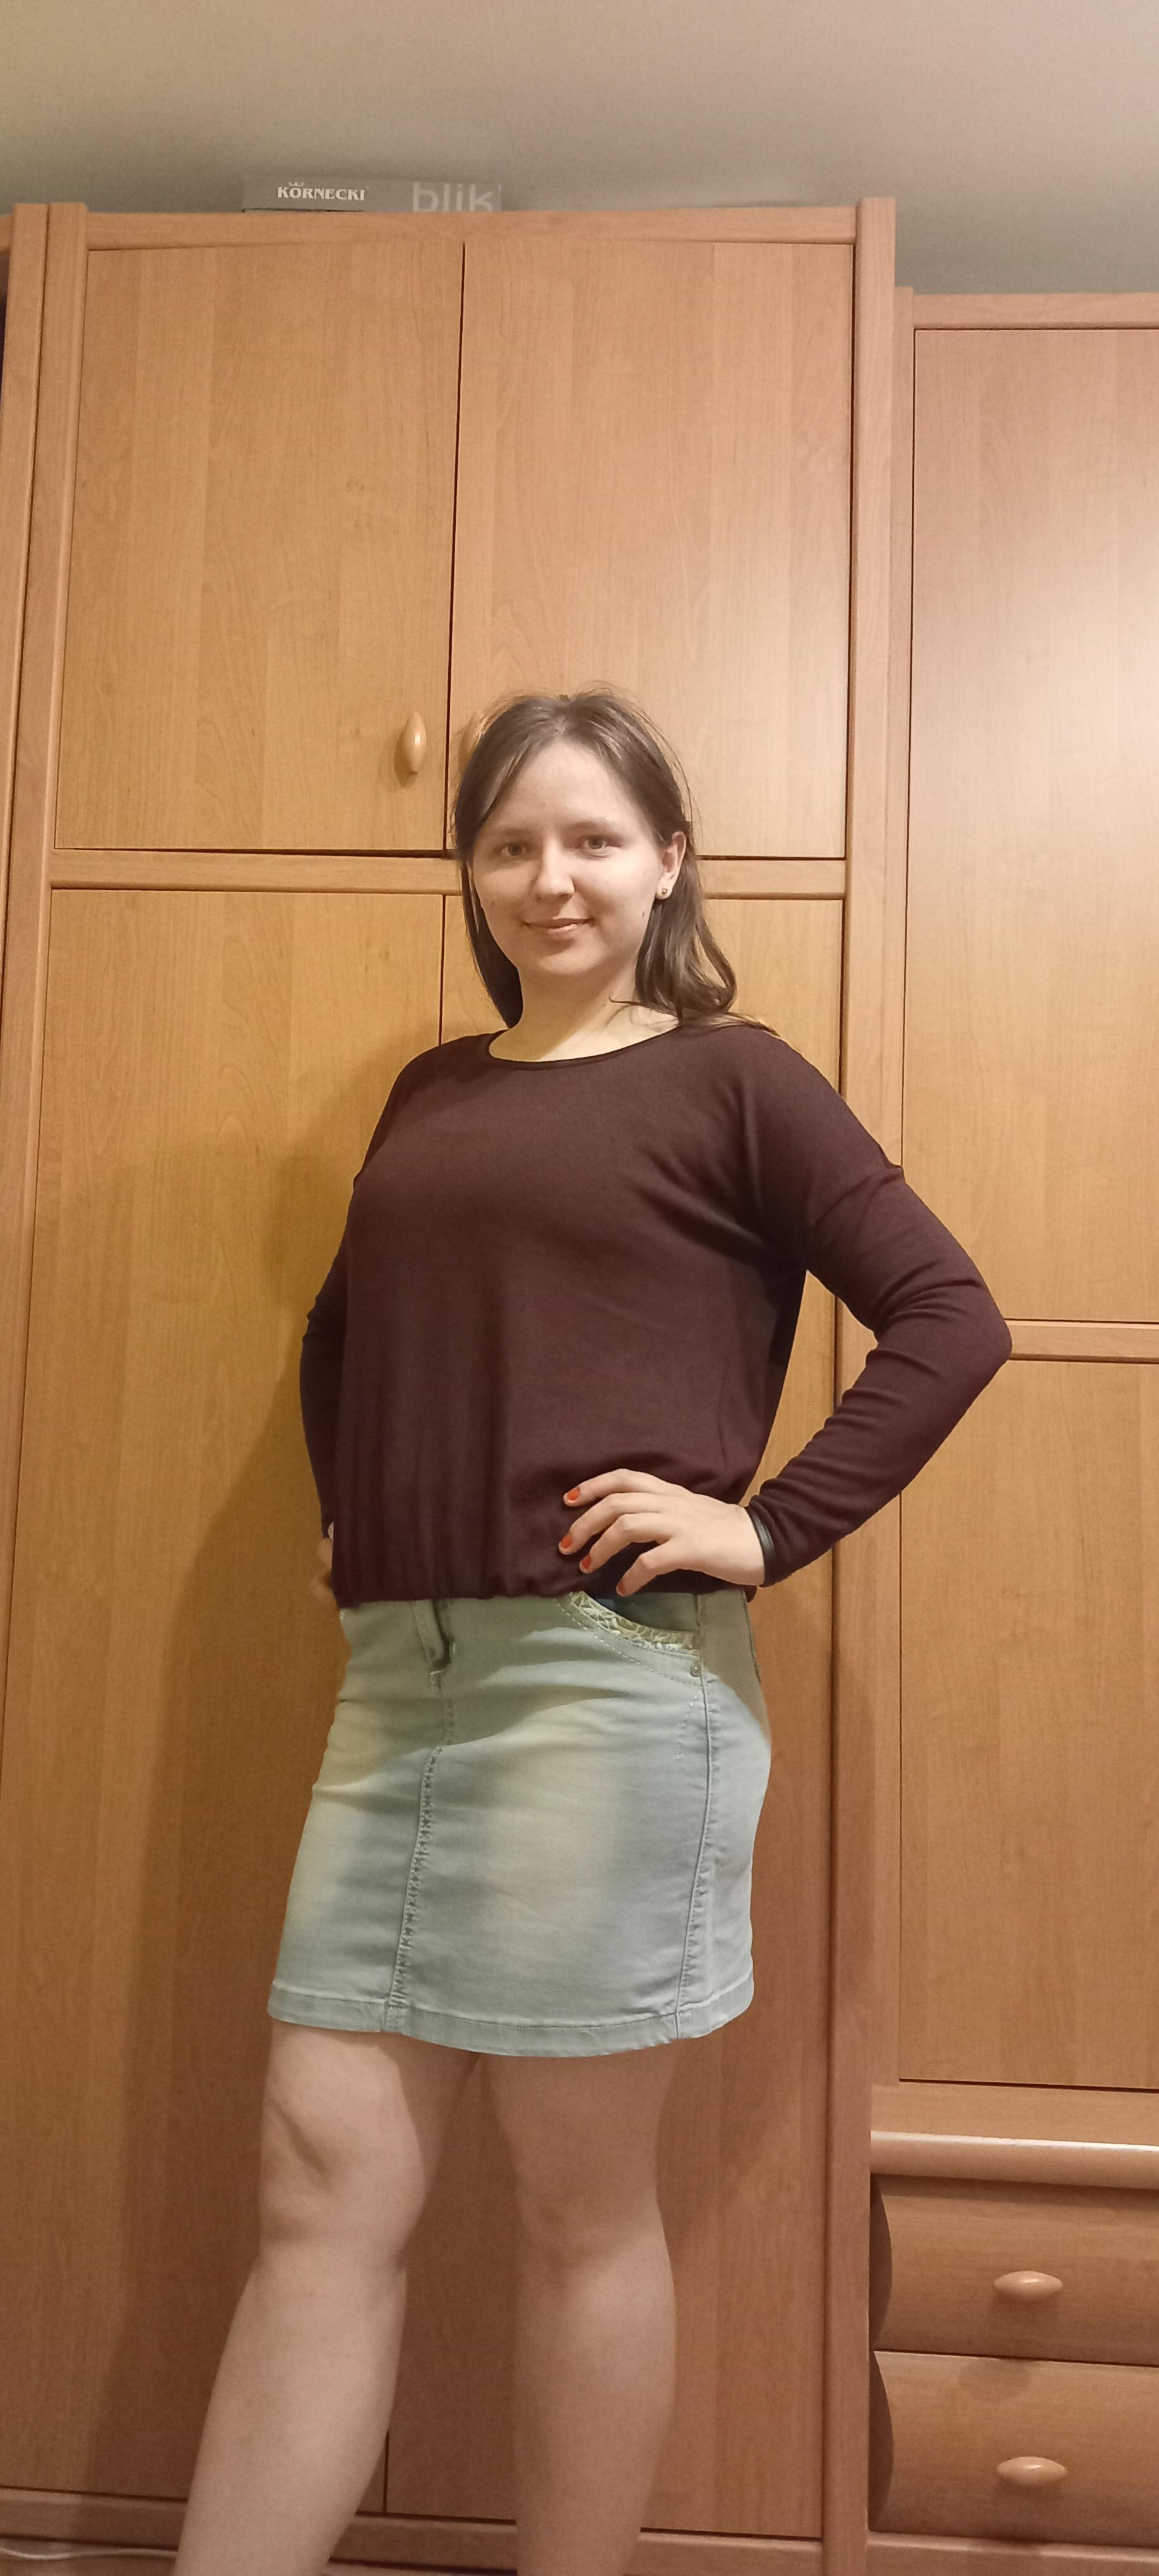Tshirt: (295, 1015, 1011, 1613)
skirt: (266, 1587, 773, 2057)
